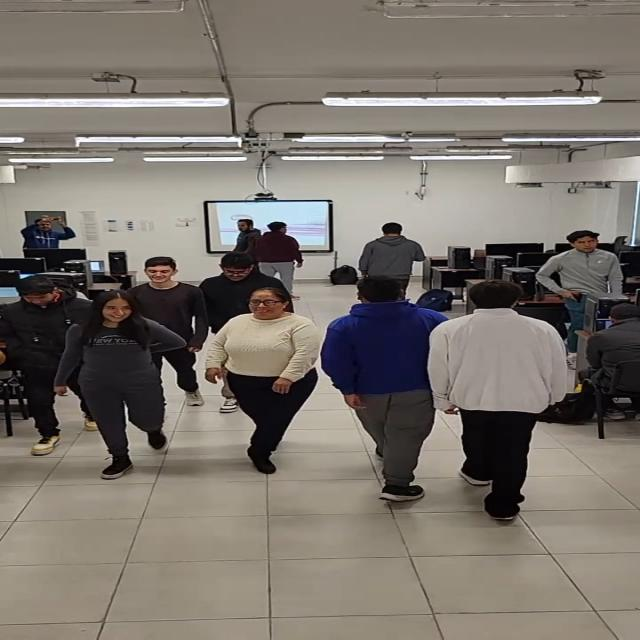Persona: (426, 279, 570, 519), (321, 275, 449, 502), (53, 289, 190, 481), (203, 286, 323, 474), (0, 273, 108, 456), (123, 255, 211, 408), (193, 252, 294, 338), (357, 221, 428, 295), (253, 220, 306, 301), (226, 218, 269, 261)
